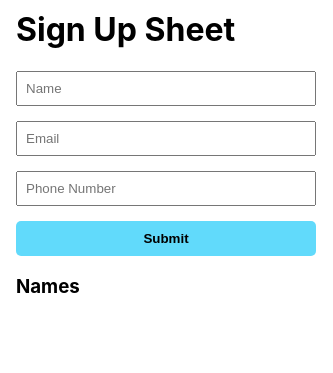
Test: successfully adds a new entry when inputs are valid
Type "John Doe" into the field with placeholder "Name".
click(166, 88); type("John Doe")  # box x1=16 y1=71 x2=316 y2=106
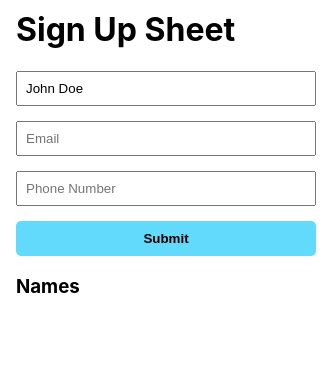
Type "john@example.com" into the field with placeholder "Email".
click(166, 138); type("john@example.com")  # box x1=16 y1=121 x2=316 y2=156
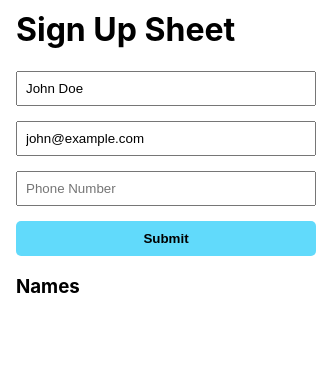
Type "1234567890" into the field with placeholder "Phone Number".
click(166, 188); type("1234567890")  # box x1=16 y1=171 x2=316 y2=206
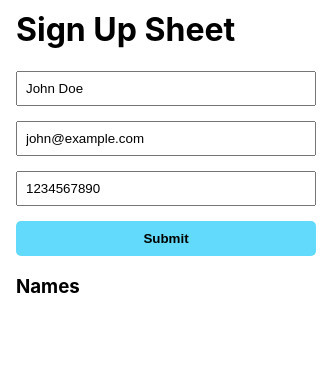
Click the button "Submit".
click(166, 238)  # box x1=16 y1=221 x2=316 y2=256
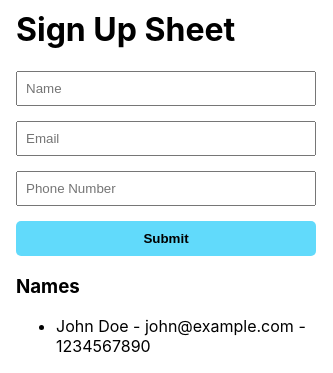
Expected: the list item "John Doe - john@example.com - 1234567890" is shown, x1=56 y1=316 x2=316 y2=356
